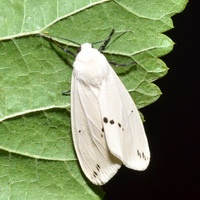insect: (71, 43, 149, 184)
